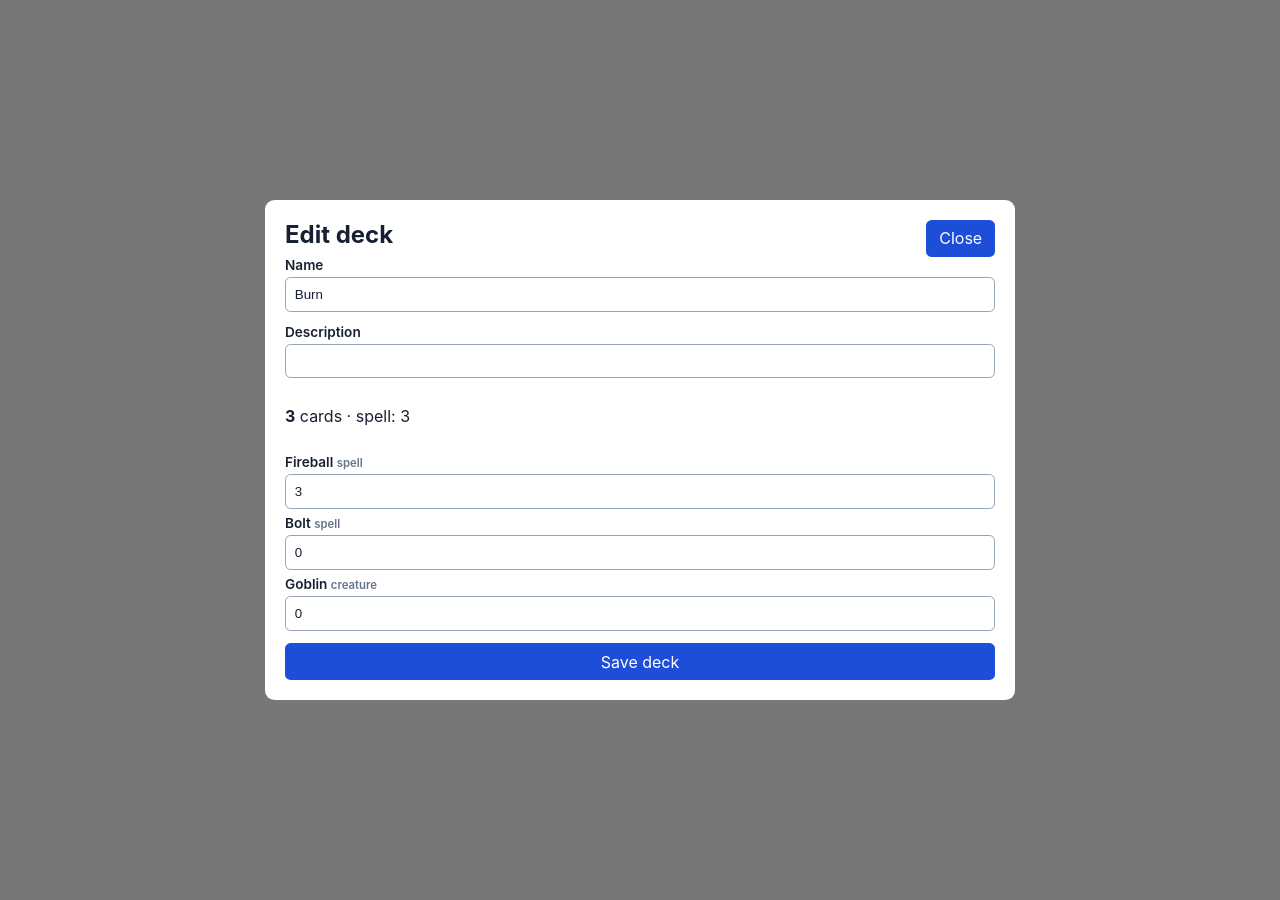
it: DeckEditor › keeps edits and explains a stale save
Step 1. Replace the text in the number field named "Bolt copies" with "2" → {"x": 640, "y": 553}, box [285,535,995,570]
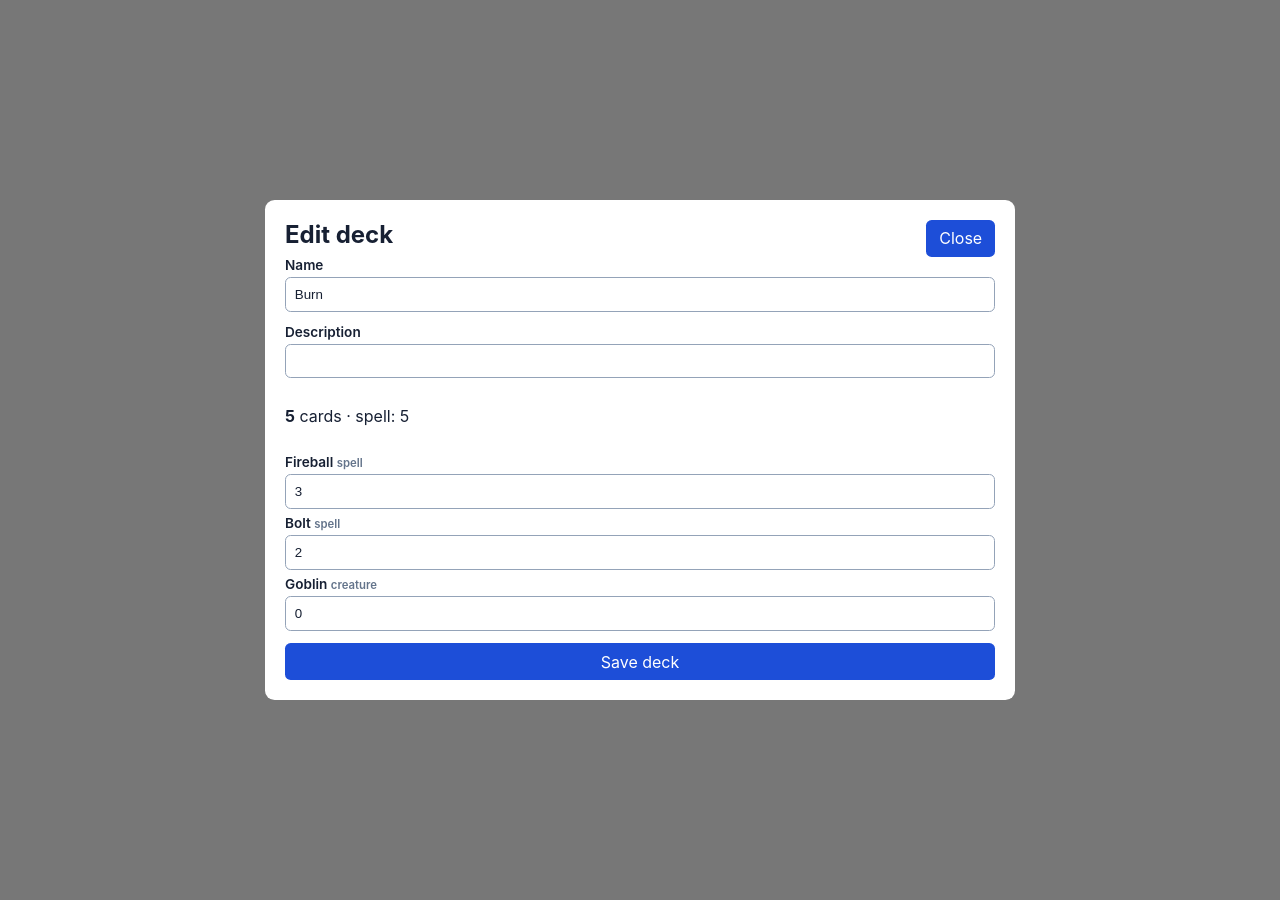
Step 2. Click the button "Save deck" → {"x": 640, "y": 662}, box [285,643,995,680]
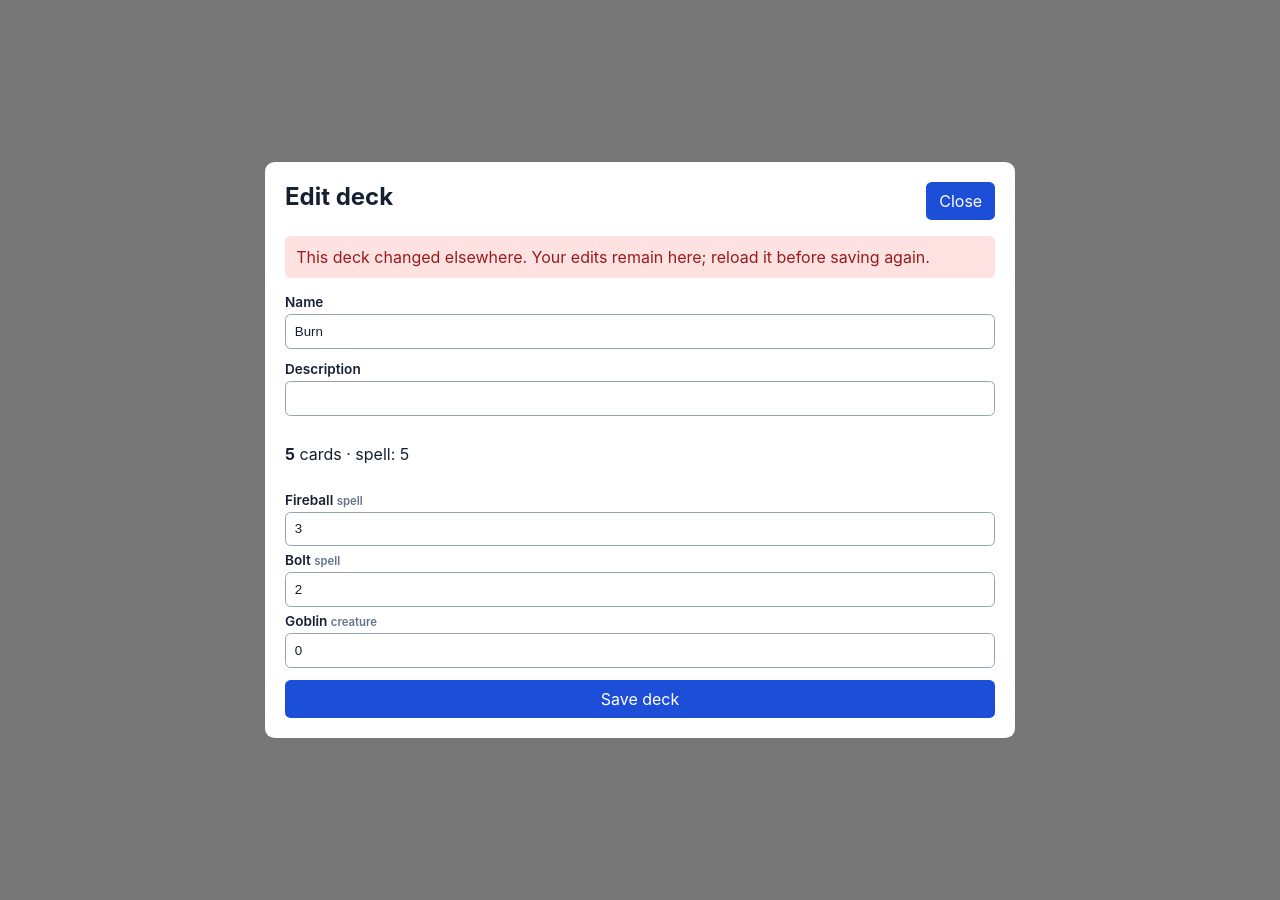
Now the message shows "This deck changed elsewhere.", box [296,247,930,267]
